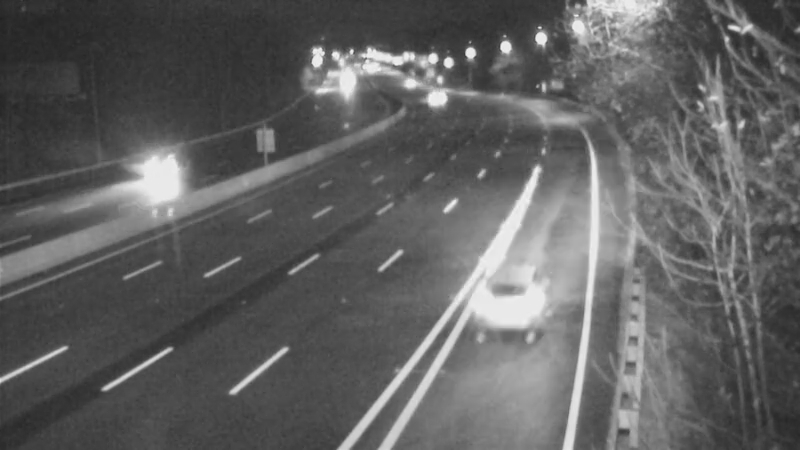vehicle: (452, 246, 562, 356), (121, 136, 201, 216), (382, 58, 432, 108), (408, 72, 458, 122)
